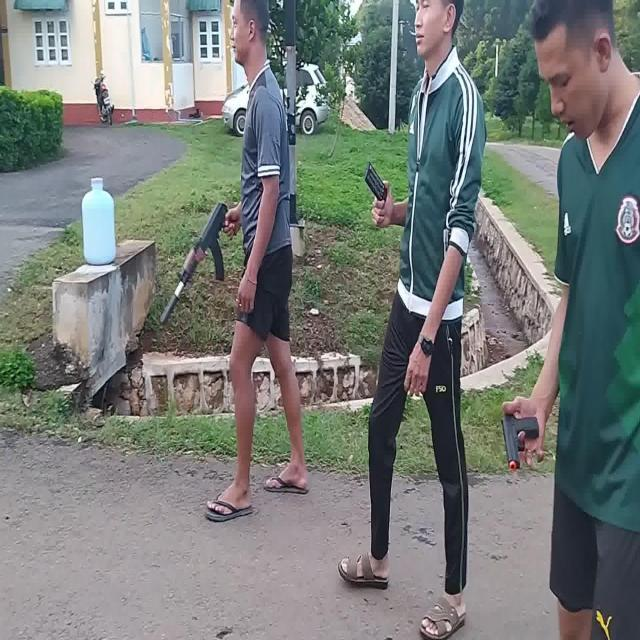gun: (160, 205, 240, 325), (501, 412, 540, 467)
